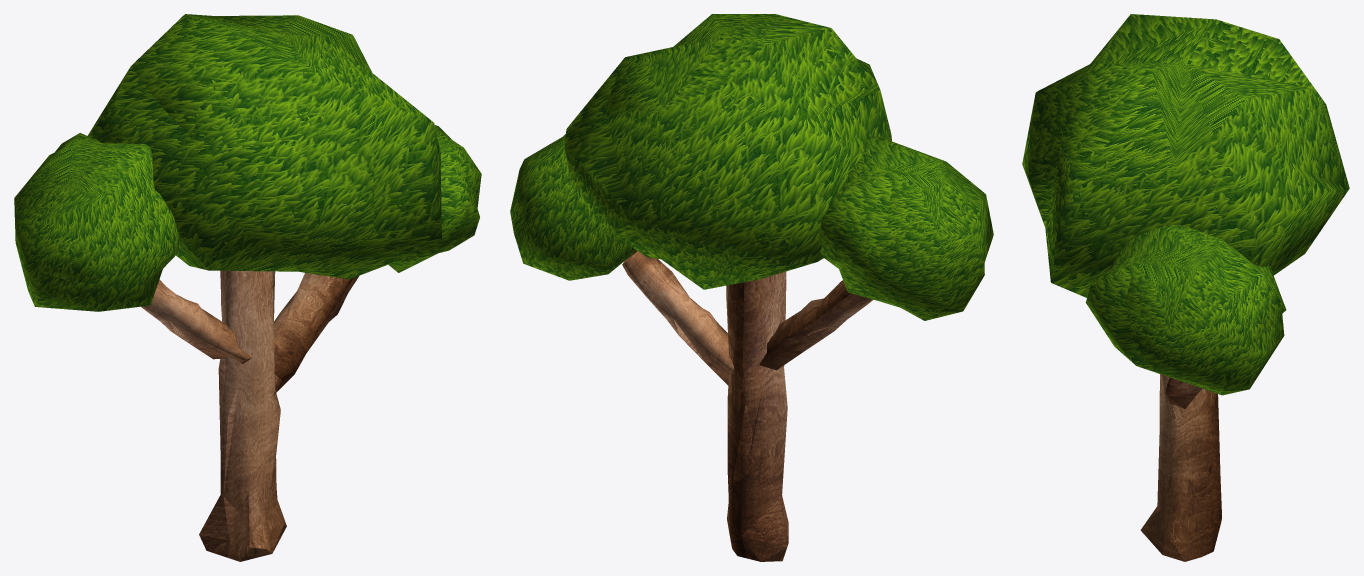
The model's file is tree1 1.fbx.
3 renders of one model, left to right at view 1: azimuth 30°, elevation 25°; view 2: azimuth 150°, elevation 25°; view 3: azimuth 270°, elevation 25°, orthographic.
Visible parts, largest first — view 1: Box004, Box005, Cylinder004, Cylinder006, Box006, Cylinder005; view 2: Box004, Box005, Cylinder004, Box006, Cylinder006, Cylinder005; view 3: Box004, Box006, Cylinder004, Cylinder006.
Boxes of the visible parts, x1,y1,x2,y2 form: Box004: (87, 14, 441, 279); Box005: (14, 133, 179, 311); Cylinder004: (199, 270, 286, 561); Cylinder006: (273, 272, 359, 395); Box006: (388, 125, 481, 272); Cylinder005: (141, 279, 251, 363); Box004: (564, 14, 891, 289); Box005: (820, 136, 993, 320); Cylinder004: (726, 271, 788, 561); Box006: (510, 134, 636, 280); Cylinder006: (622, 251, 733, 385); Cylinder005: (759, 280, 873, 370); Box004: (1022, 14, 1349, 297); Box006: (1085, 225, 1286, 395); Cylinder004: (1140, 374, 1221, 561); Cylinder006: (1165, 377, 1202, 408).
Bounding box in the file's own units: 187 × 206 × 118.
2 materials, 2 textured.
